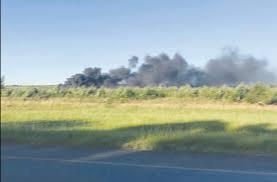Smoke: (62, 49, 276, 92)
